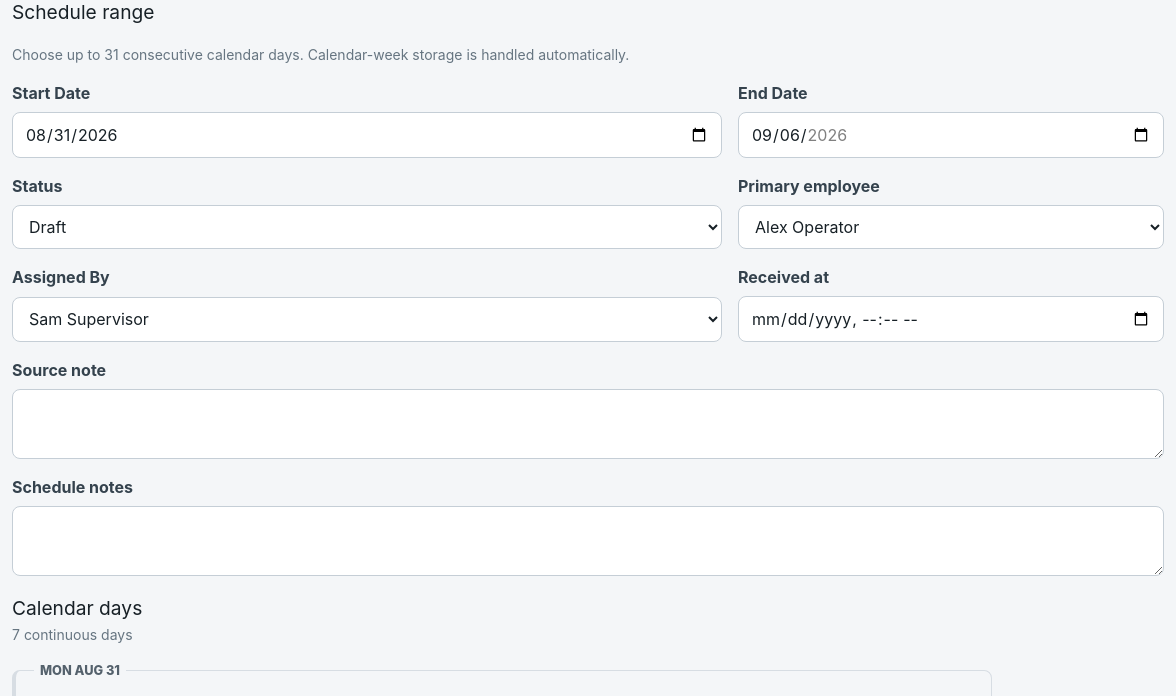
it: ScheduleRangeForm › hydrates Off without equipment or partner fields
In the date field labelled "End Date": (951, 135) [738,112,1164,158], type "2026-09-08"
(page scrolled)
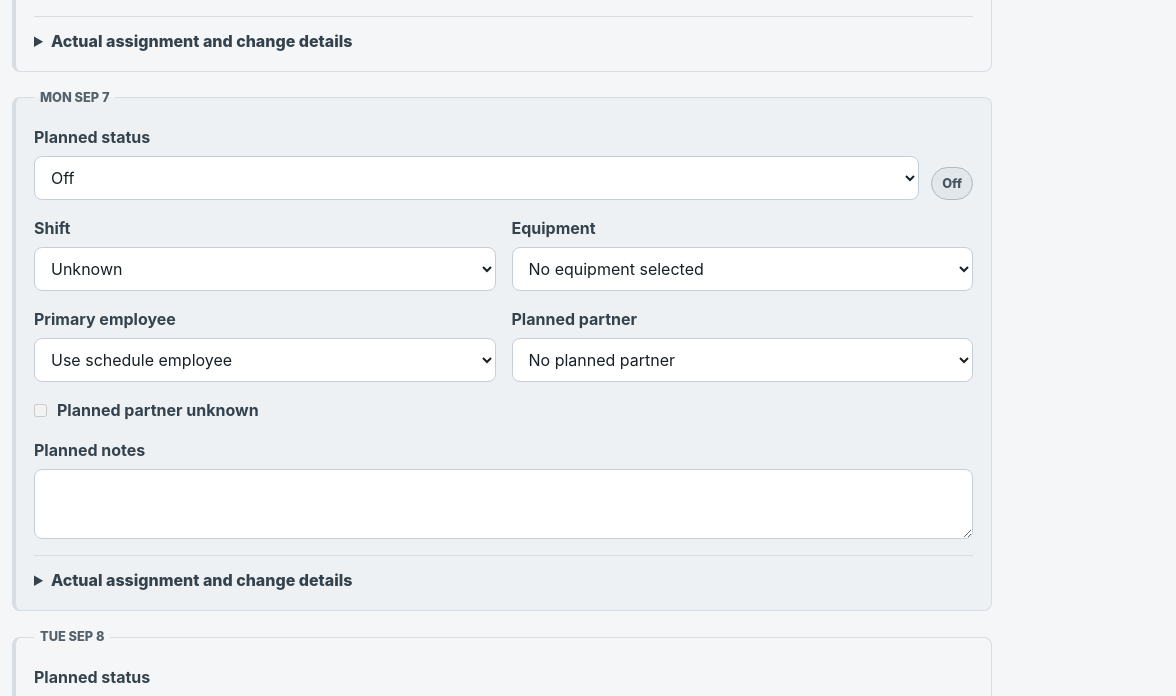
Result: the dropdown labelled "Shift" is disabled at [34,247,496,291]
Result: the dropdown labelled "Equipment" shows "No equipment selected" at [512,247,973,291]
Result: the dropdown labelled "Planned partner" shows "No planned partner" at [512,338,973,382]
